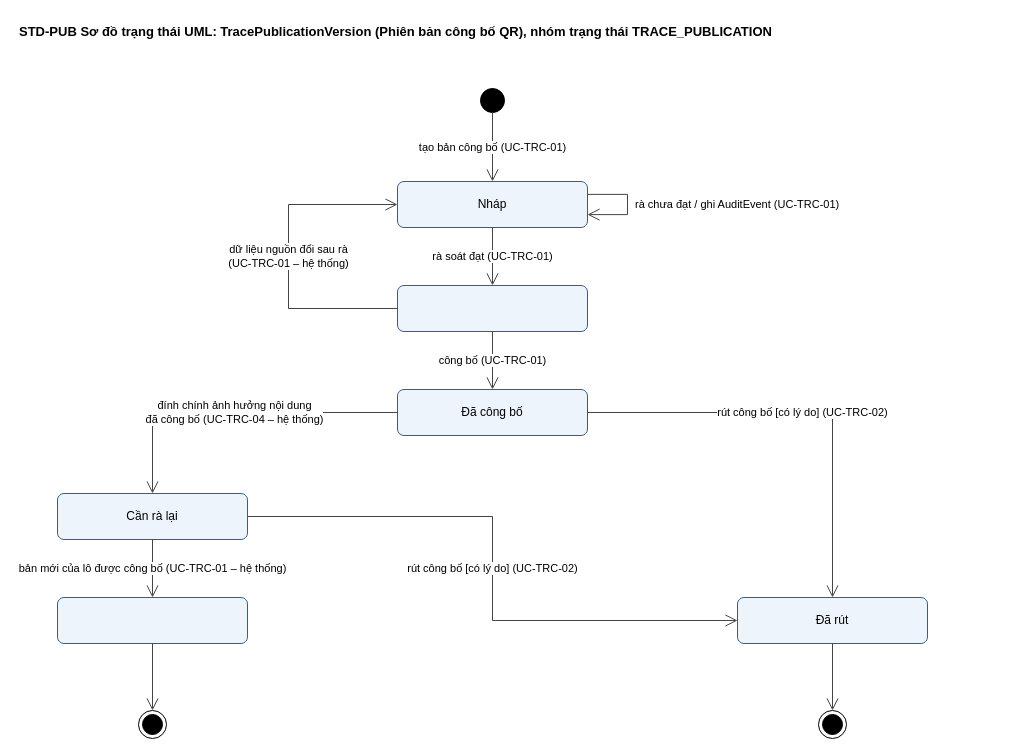
Some shapes in this 1014 by 756 pixel diagram are drawn without their labels. Each missing label, with the centre of its shape:
"Đã thay thế" goes at [152,620].
"Đạt" goes at [492,308].
